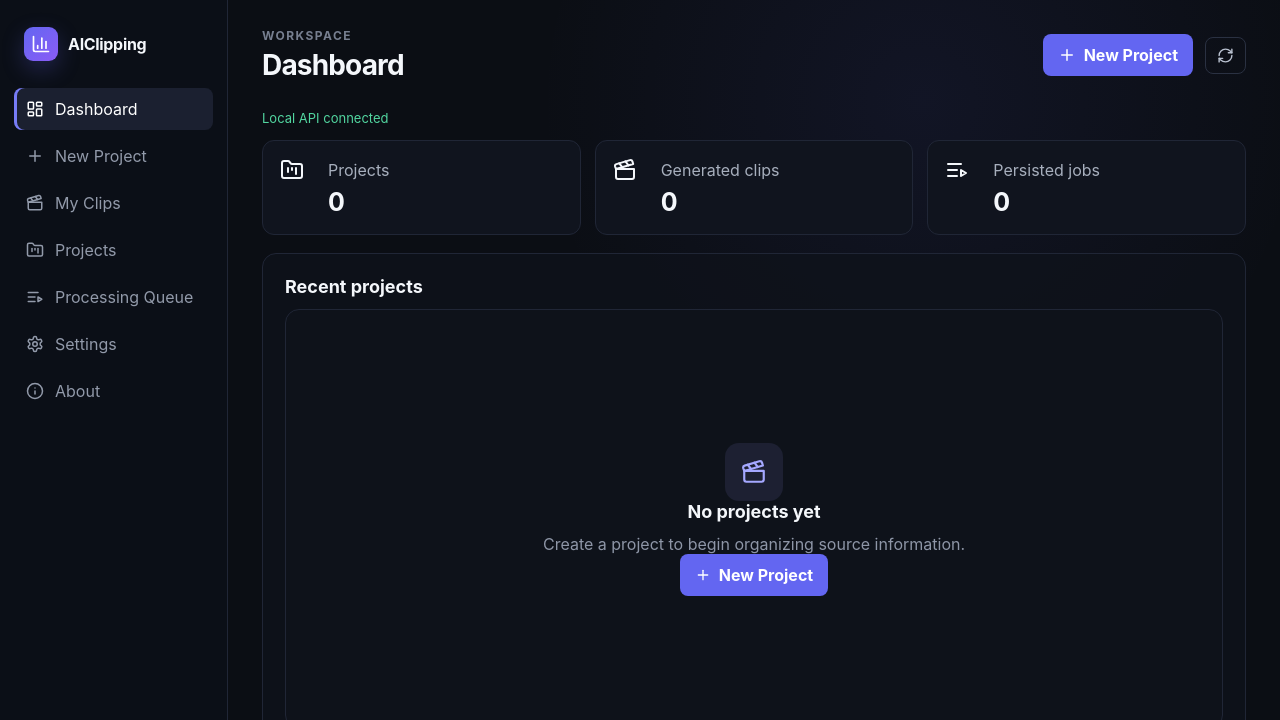
Test case: application interface › navigates between all sidebar views and marks the active view
The image size is (1280, 720).
expect the heading "No projects yet" is shown: met, box x1=687 y1=500 x2=820 y2=522
Click the button "My Clips": (114, 203) x1=14 y1=182 x2=213 y2=224
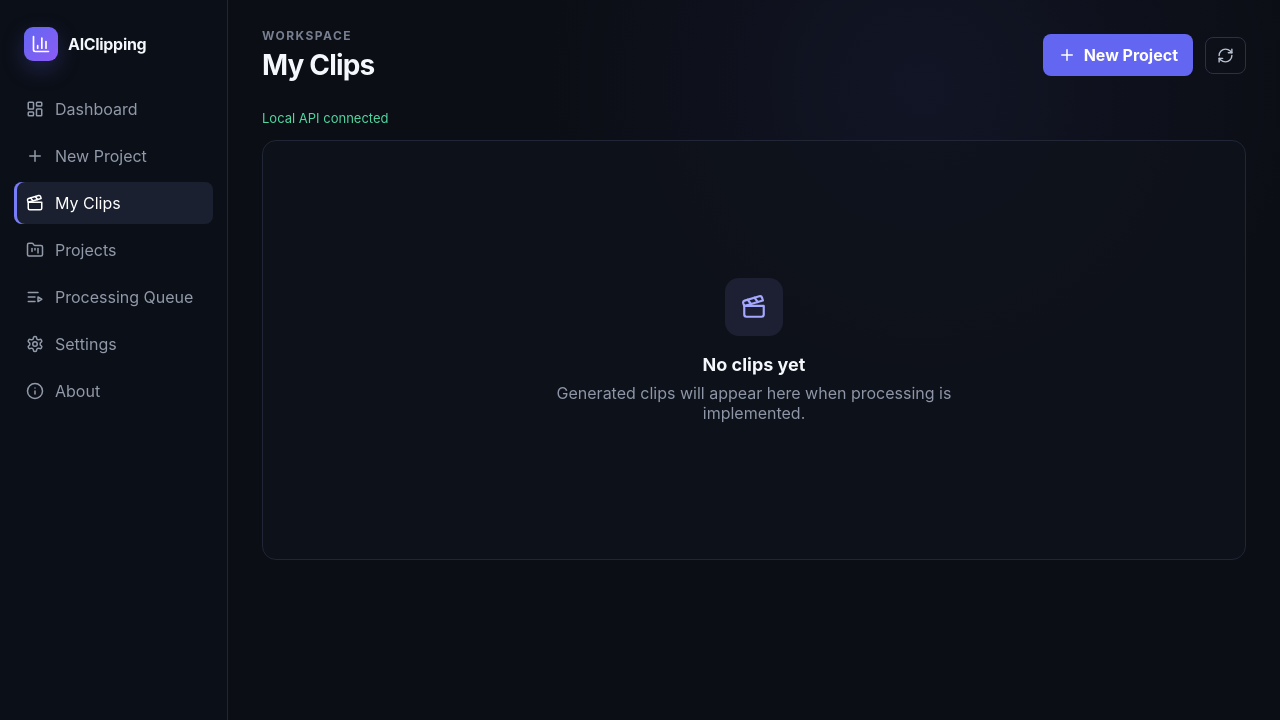
expect the heading "No clips yet" is shown: met, box x1=702 y1=354 x2=805 y2=374
Click the button "Projects": (114, 250) x1=14 y1=229 x2=213 y2=271
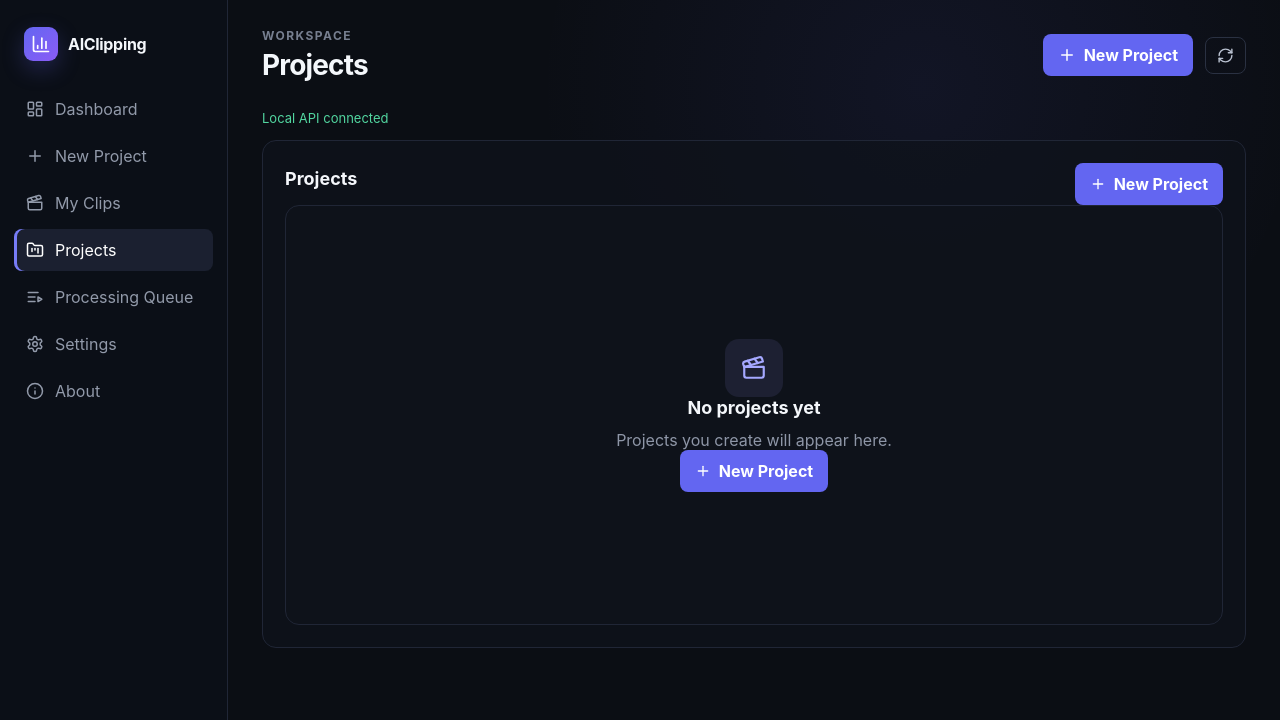
expect the 2nd heading "Projects" is shown: met, box x1=285 y1=168 x2=357 y2=188
Click the button "Processing Queue": (114, 297) x1=14 y1=276 x2=213 y2=318
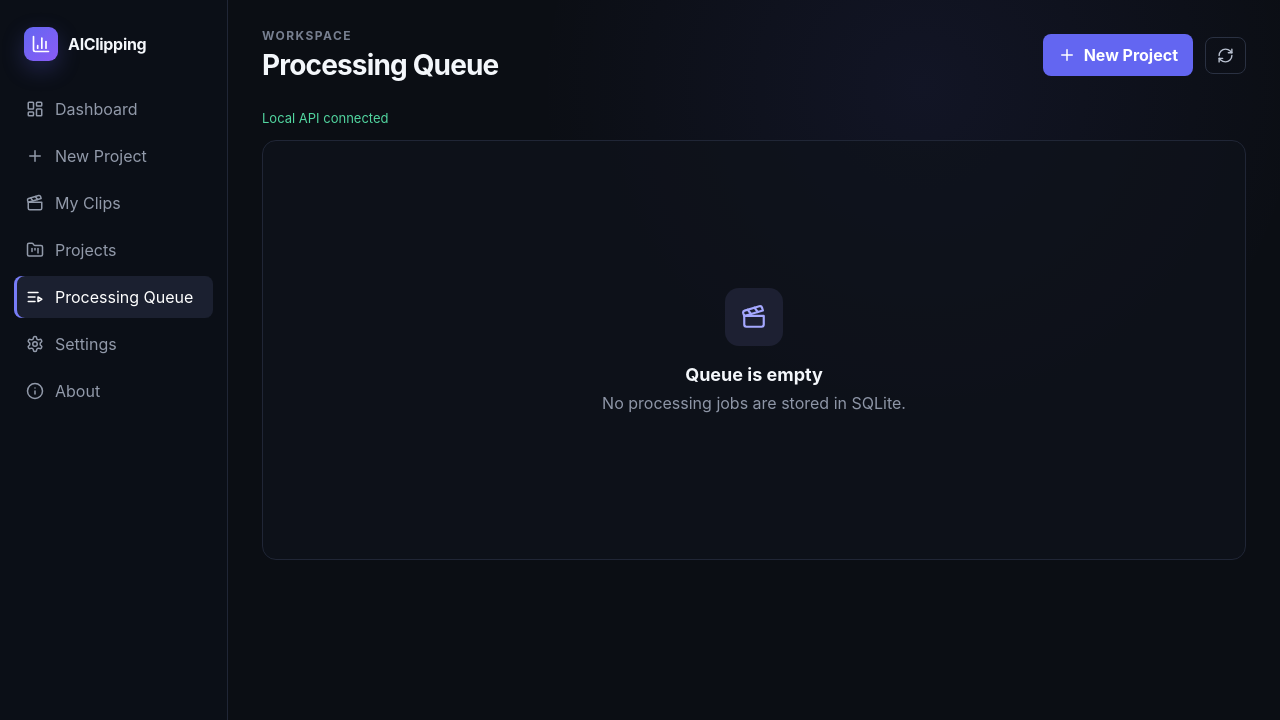
expect the heading "Queue is empty" is shown: met, box x1=685 y1=364 x2=823 y2=384
Click the button "Settings": (114, 344) x1=14 y1=323 x2=213 y2=365
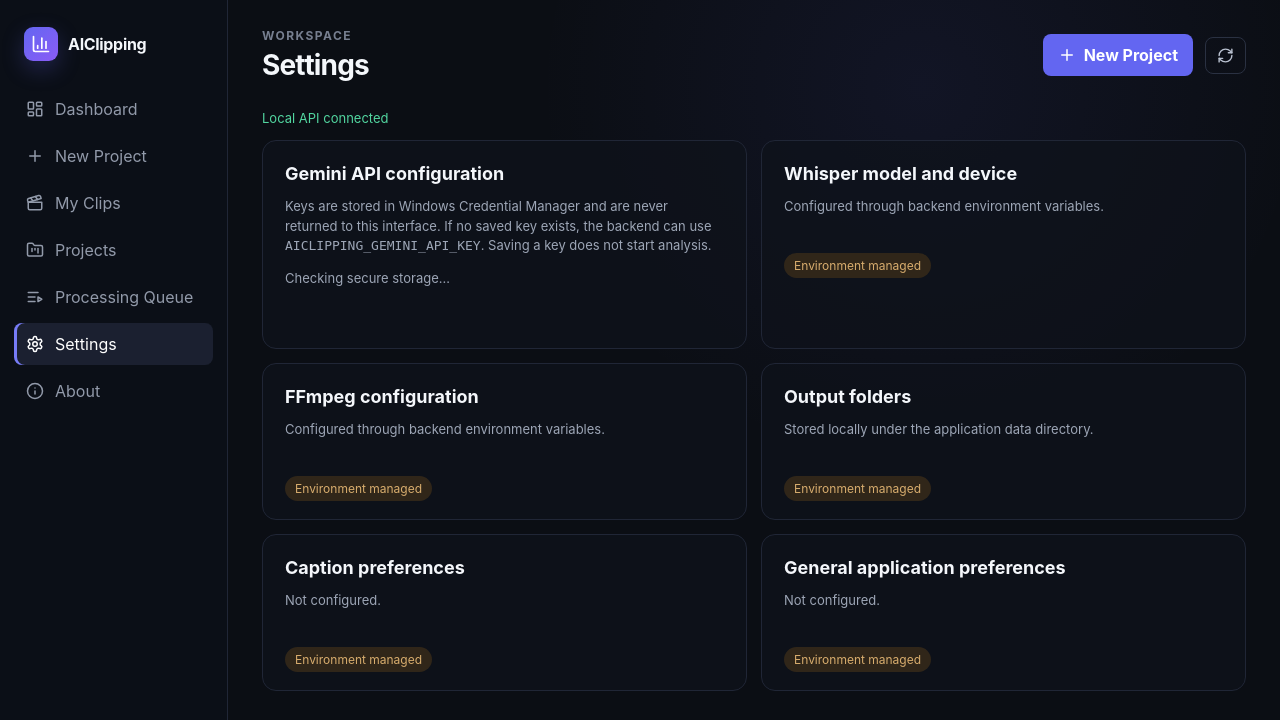
expect the heading "Gemini API configuration" is shown: met, box x1=285 y1=163 x2=504 y2=184
Click the button "About": (114, 391) x1=14 y1=370 x2=213 y2=412
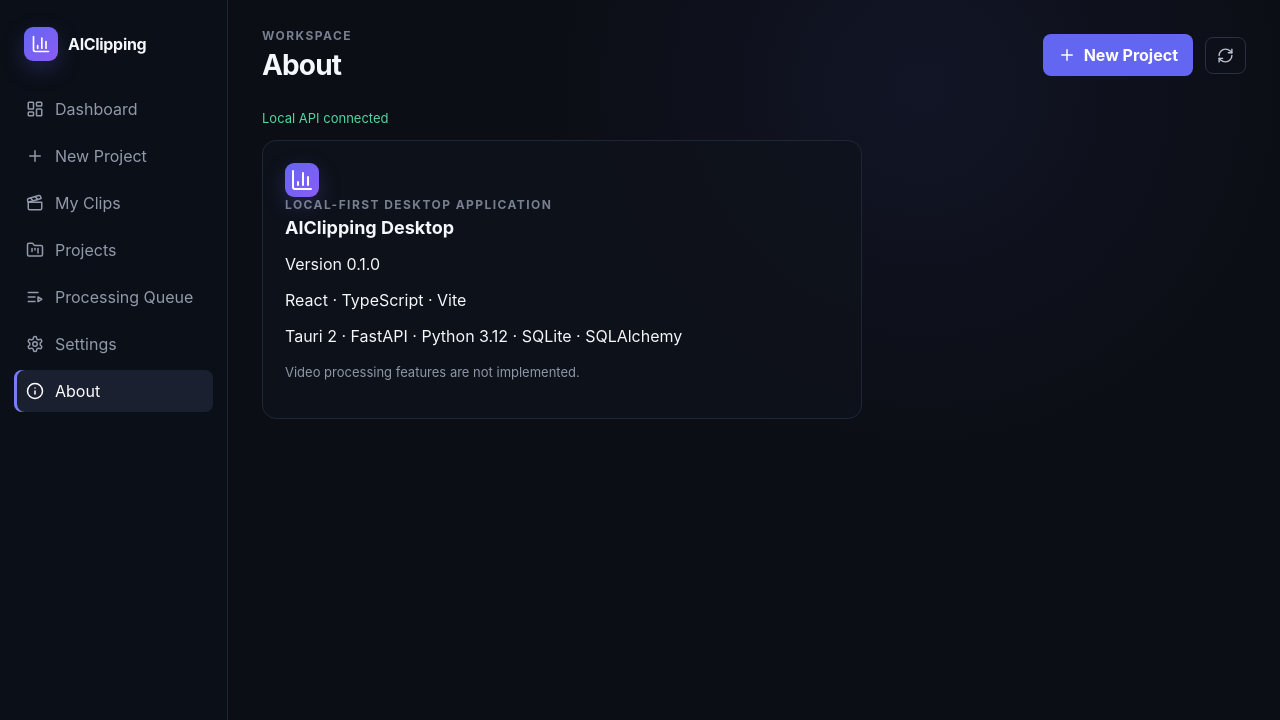
expect the heading "AIClipping Desktop" is shown: met, box x1=285 y1=217 x2=454 y2=238
